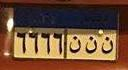6: (16, 32, 27, 54), (52, 33, 63, 54), (29, 32, 39, 54), (41, 32, 50, 55)
noon: (69, 36, 83, 55), (85, 36, 99, 54), (101, 35, 114, 54)
